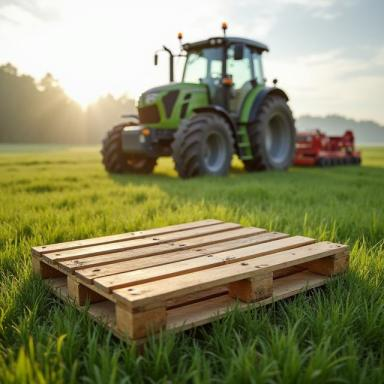pallet: (31, 218, 350, 344), (166, 283, 229, 330)
